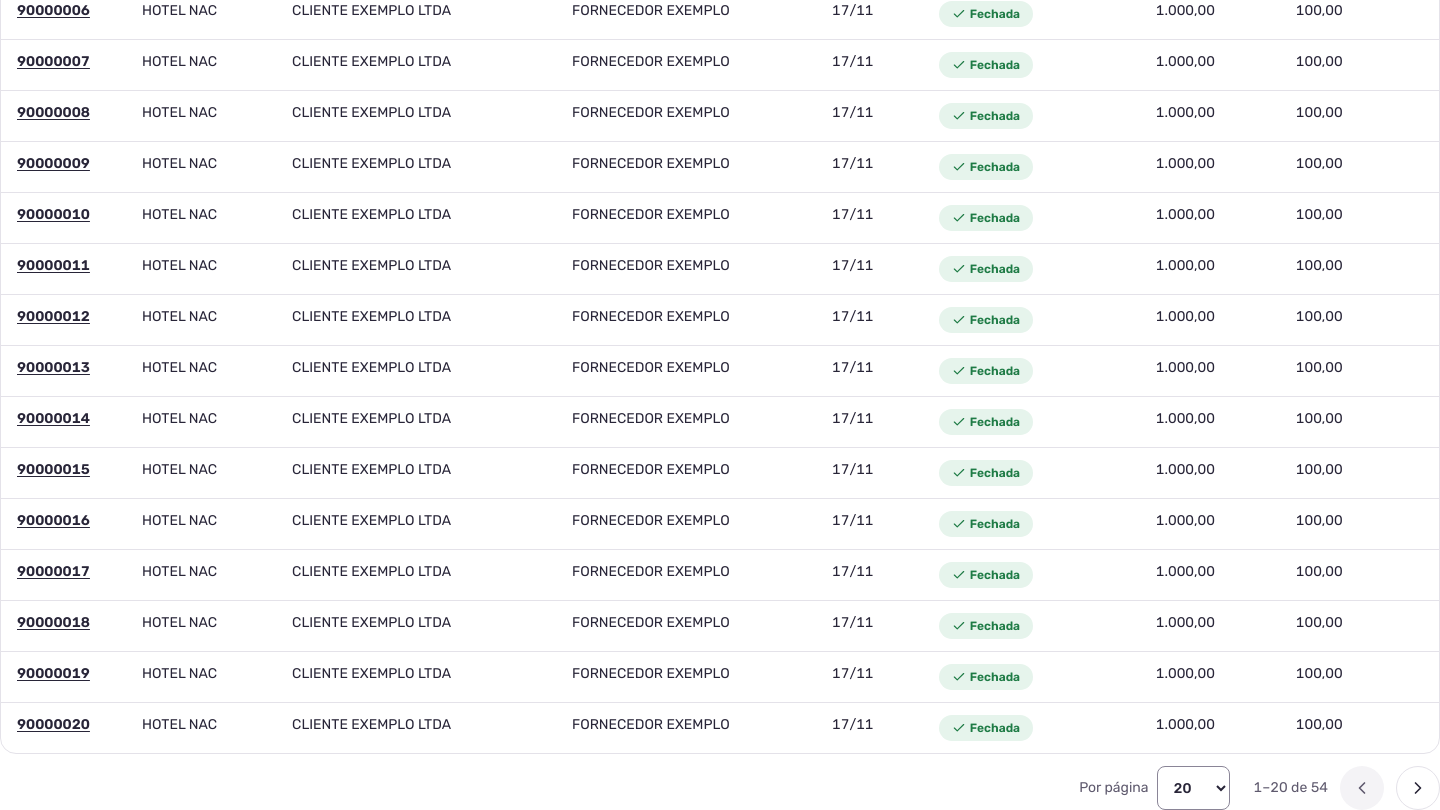
Test: paginação: Por página volta à 1, as setas param nas pontas e por inválido vale o padrão
The width and height of the screenshot is (1440, 810).
(page scrolled)
Expected: the text "1–20 de 54" is shown, [1254,778,1328,798]
Expected: the button named "Página anterior" is disabled, [1340,766,1384,809]
Click the button named "Próxima página" at (1418, 788), box [1396,766,1439,809]
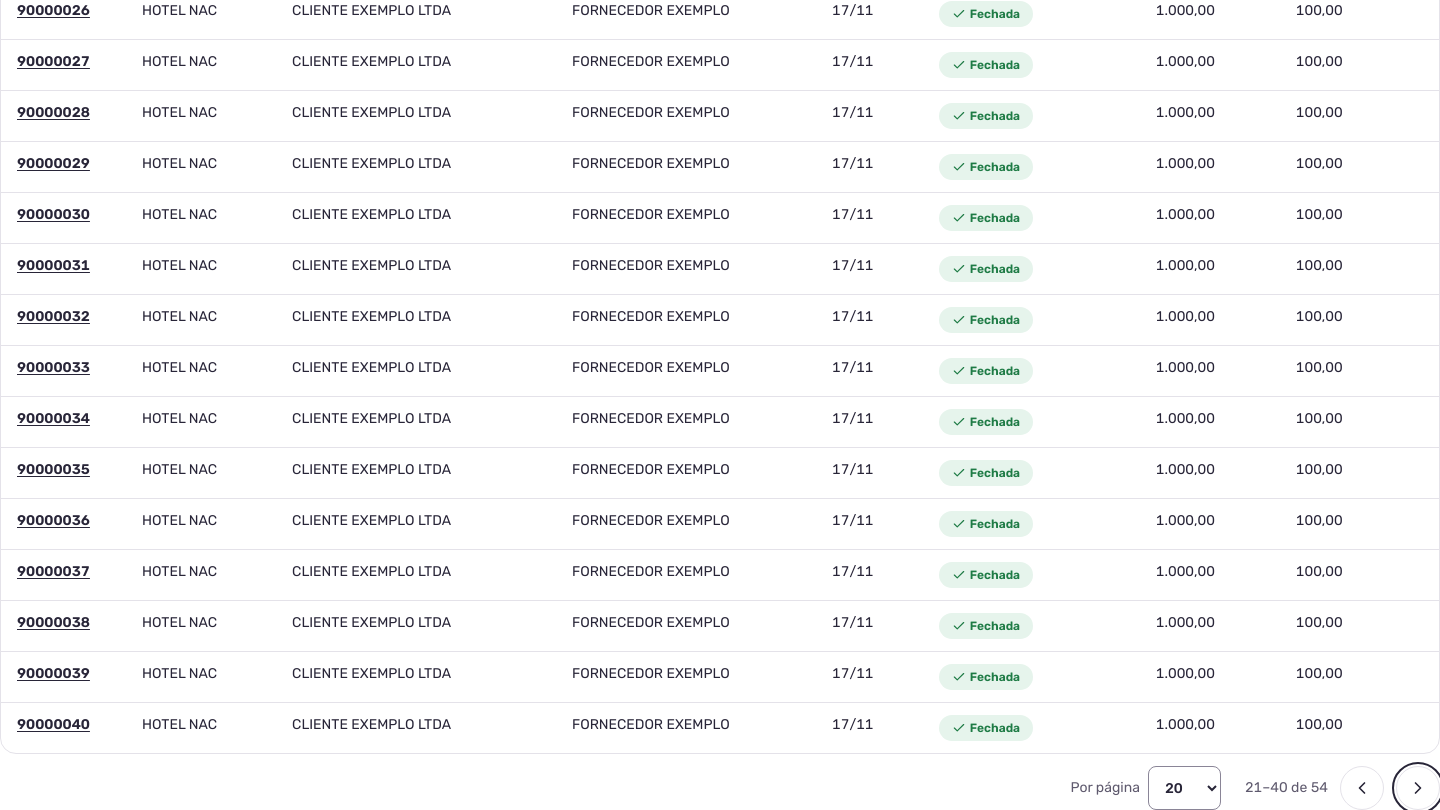
Expected: the button named "Página anterior" is enabled, [1340,766,1384,809]
Expected: the text "21–40 de 54" is shown, [1245,778,1328,798]
Click the button named "Próxima página" at (1418, 788), box [1396,766,1439,809]
(page scrolled)
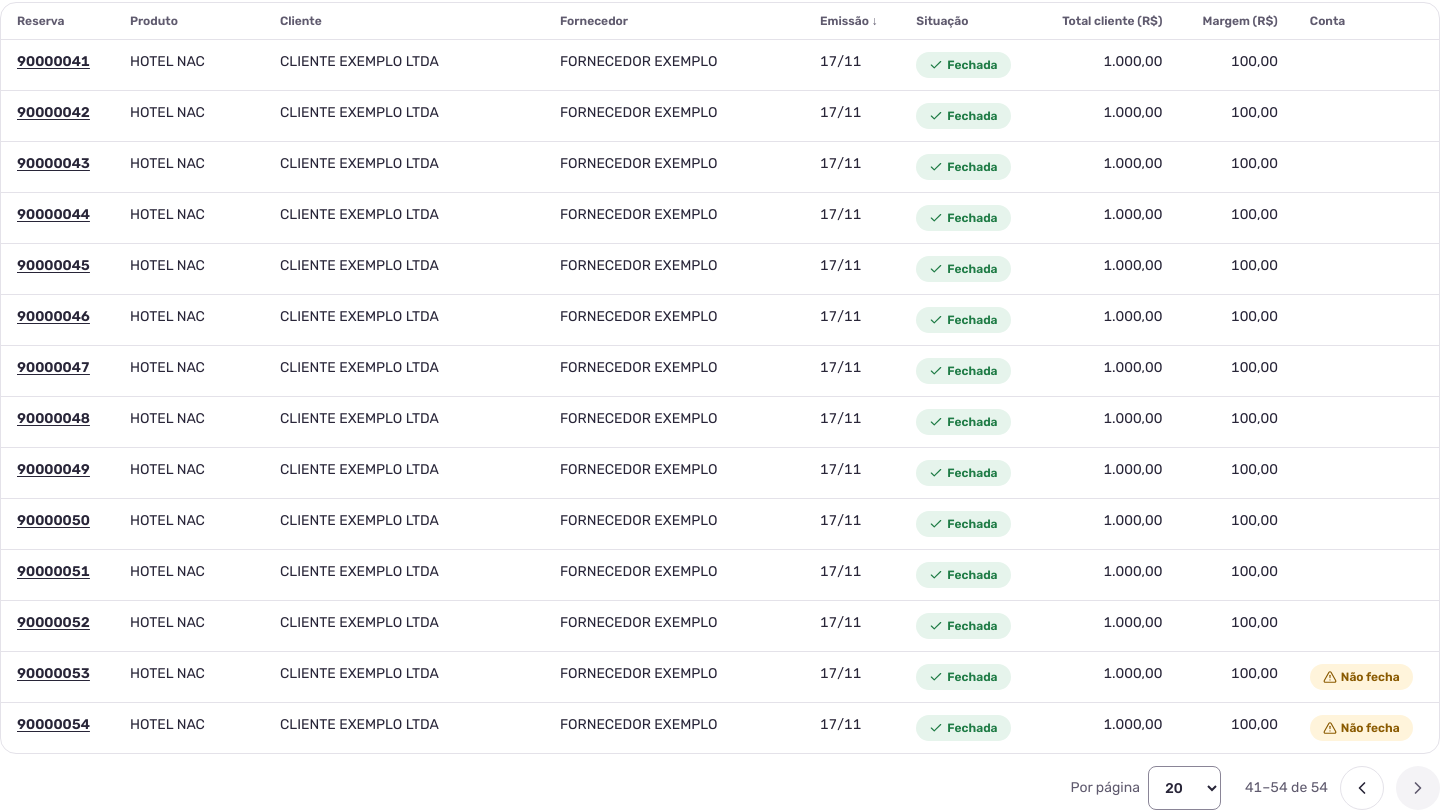
Expected: the text "41–54 de 54" is shown, [1245,778,1328,798]
Expected: the button named "Próxima página" is disabled, [1396,766,1439,809]
Select "50" in the dropdown labelled "Por página" at (1184, 788), box [1148,766,1221,809]
(page scrolled)
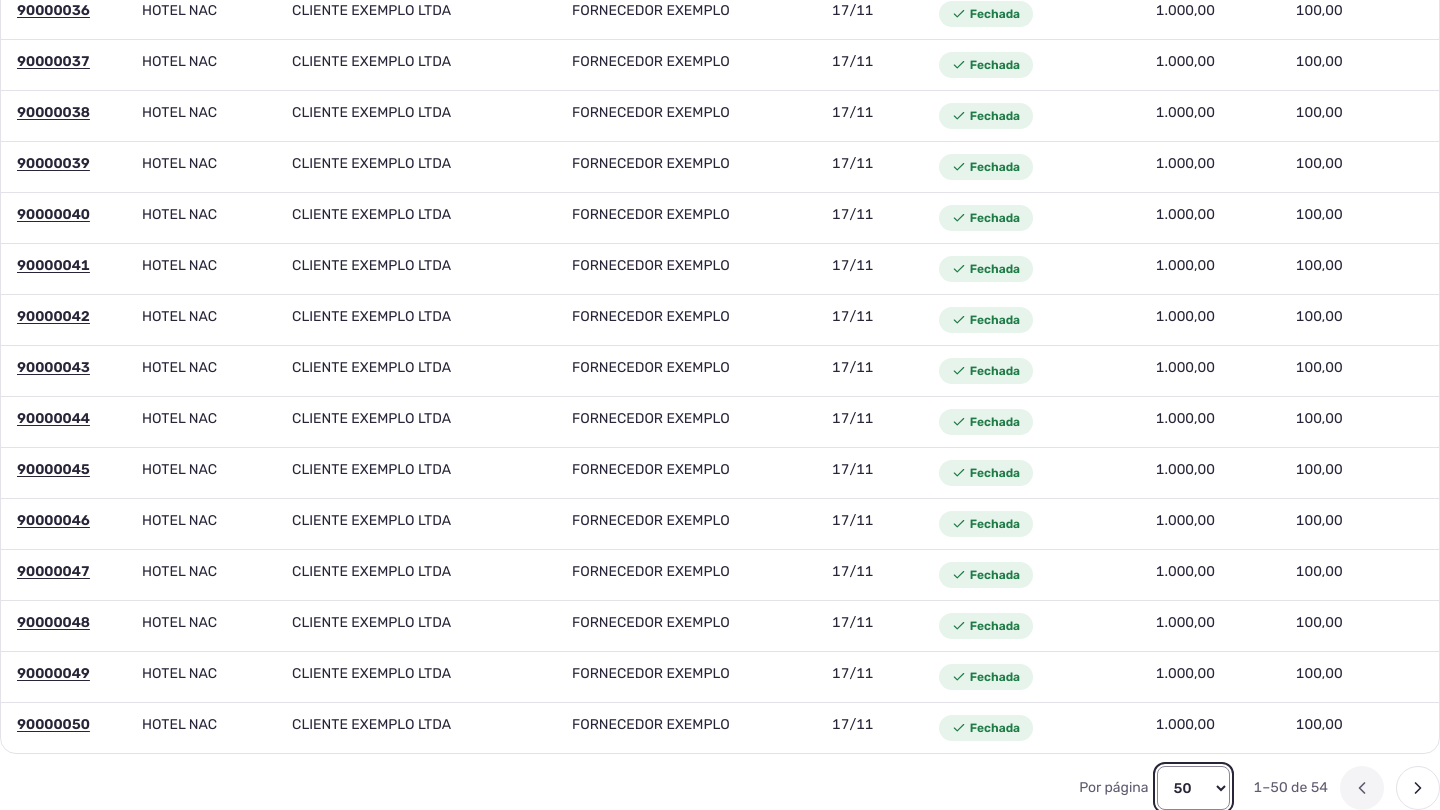
Expected: the text "1–50 de 54" is shown, [1254,778,1328,798]
